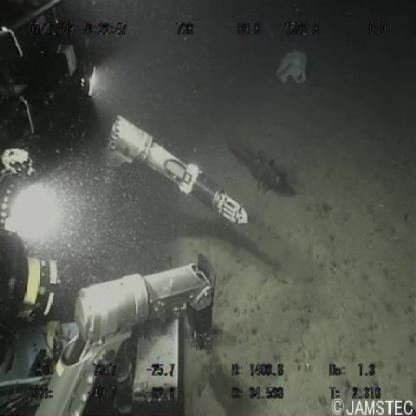Bio: (238, 142, 298, 199)
Rov: (1, 1, 249, 416)
Rác: (271, 44, 312, 90)
